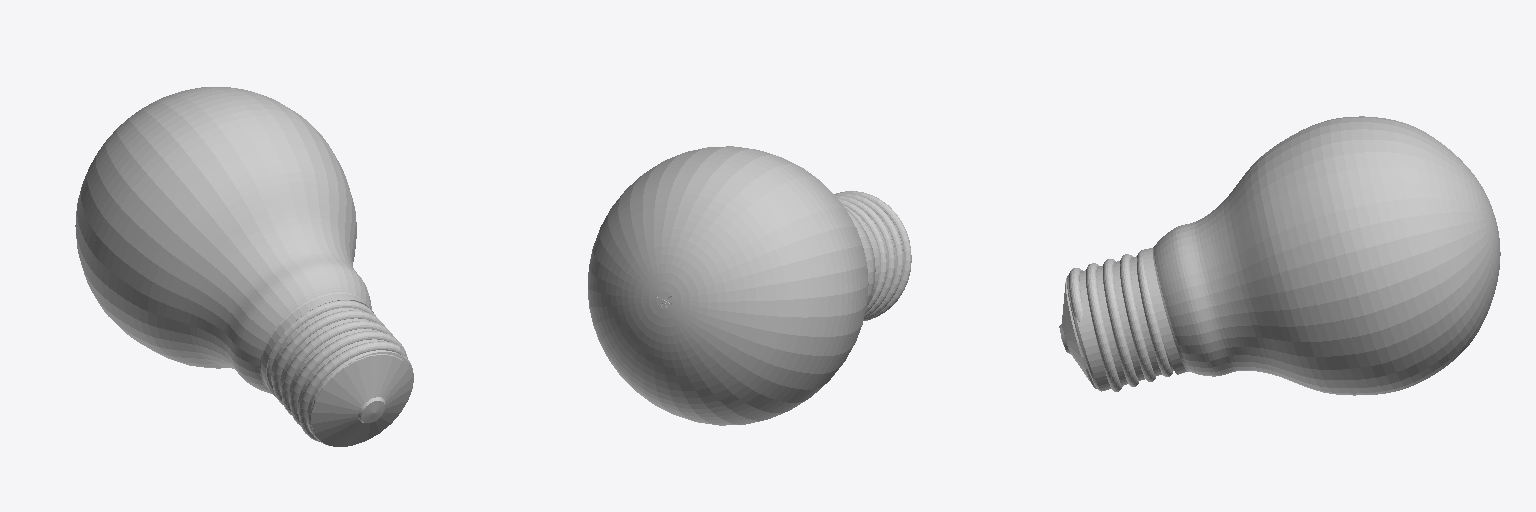
3 views of the same model, side by side, from view 1: azimuth 30°, elevation 25°; view 2: azimuth 150°, elevation 25°; view 3: azimuth 270°, elevation 25° (orthographic).
Parts seen in each view (by area): view 1: file.004; view 2: file.004; view 3: file.004.
Boxes of the visible parts, x1=… form: file.004: x1=75, y1=87, x2=413, y2=446; file.004: x1=588, y1=146, x2=911, y2=425; file.004: x1=1059, y1=116, x2=1500, y2=395.
Size of the model in its own units: 1.54 by 1.53 by 2.42.